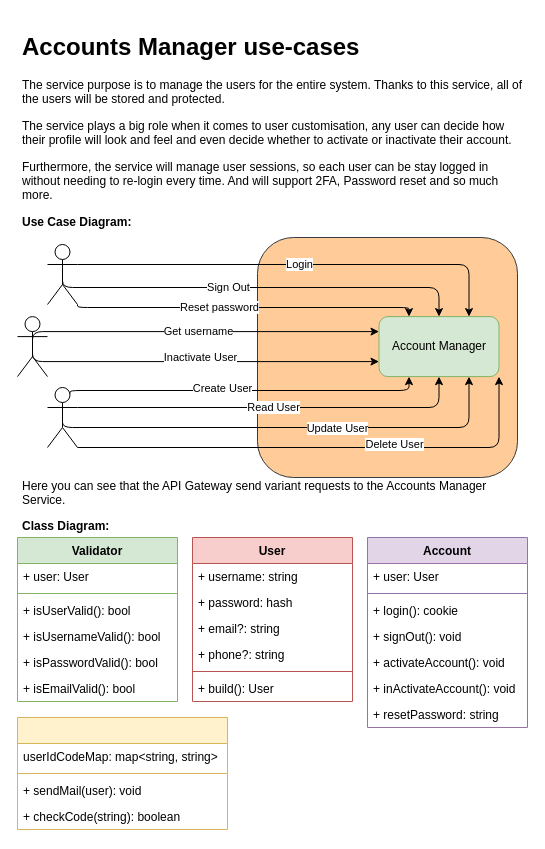
The diagram is 545 pixels wide and 849 high, and some of its shapes have lost their labels. The shapes that lost their labels are listed below. From the top down, each one's box as (x1, y1, x2, y2) in pixels, then its label:
(46, 386, 78, 448): API Gateway
(16, 716, 228, 830): 2FA
